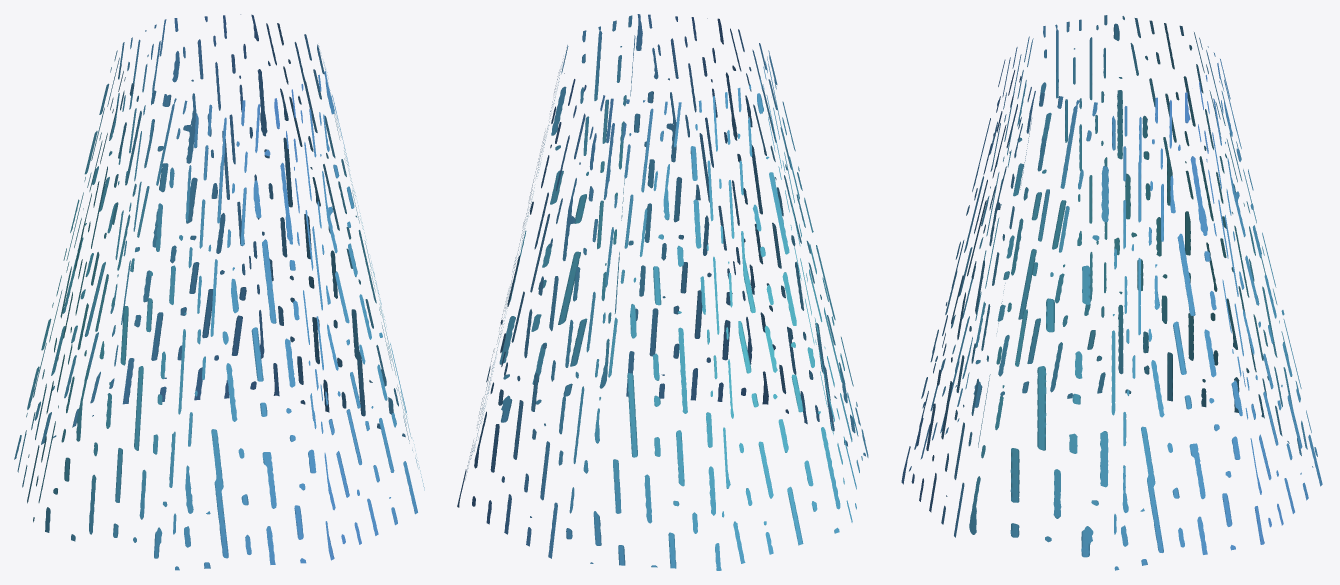
Rendered from water_sprinkler_water.FBX.
3 views of the same model, side by side, from view 1: azimuth 30°, elevation 25°; view 2: azimuth 150°, elevation 25°; view 3: azimuth 270°, elevation 25° (orthographic).
Visible parts, largest first — view 1: weed_sprinkler_water; view 2: weed_sprinkler_water; view 3: weed_sprinkler_water.
Part boxes in pixels (left/top/right/bottom): weed_sprinkler_water: left=14, top=14, right=424, bottom=570; weed_sprinkler_water: left=457, top=14, right=868, bottom=570; weed_sprinkler_water: left=901, top=15, right=1322, bottom=570.
Bounding box in the file's own units: 146 × 159 × 146.
